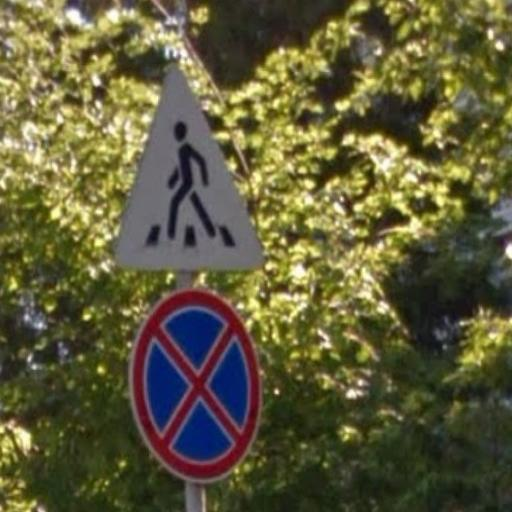traffic_sign: (113, 66, 266, 275), (129, 286, 264, 486)
